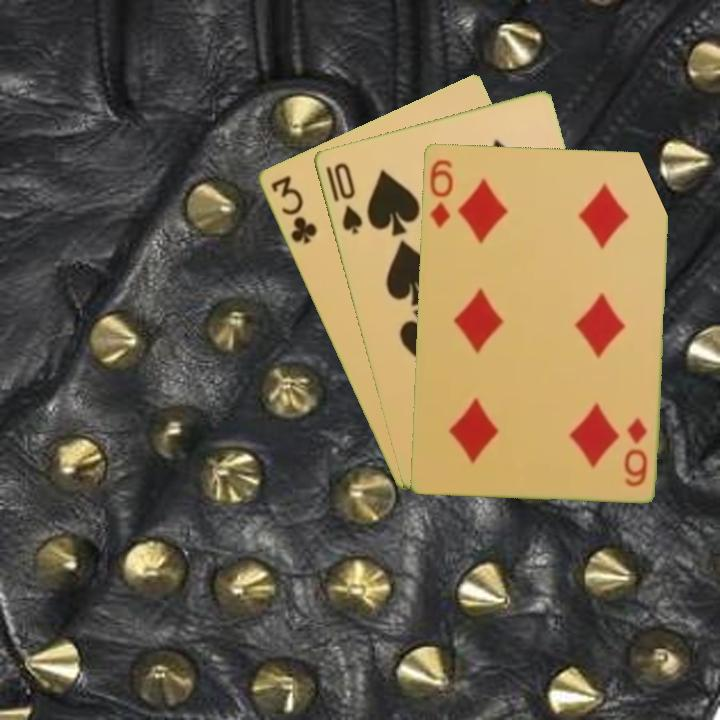10s: (330, 158, 365, 237)
3c: (266, 172, 320, 247)
6d: (426, 155, 456, 231), (620, 413, 650, 489)
